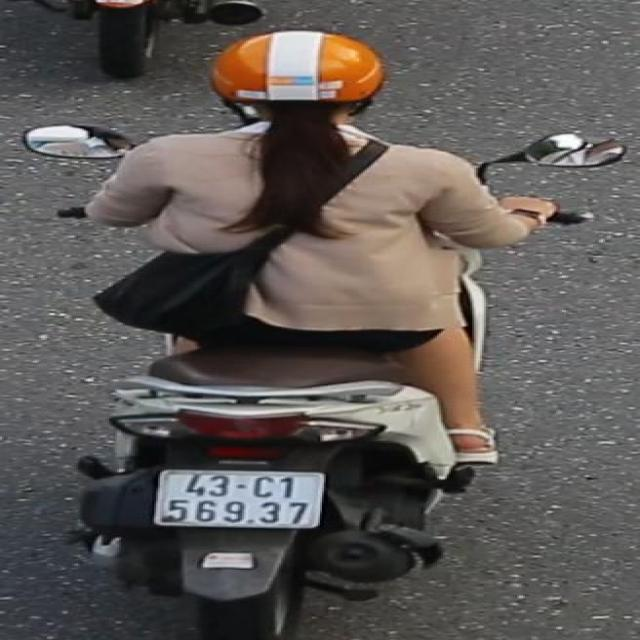LP: (149, 464, 337, 541)
helmet: (209, 25, 384, 137)
